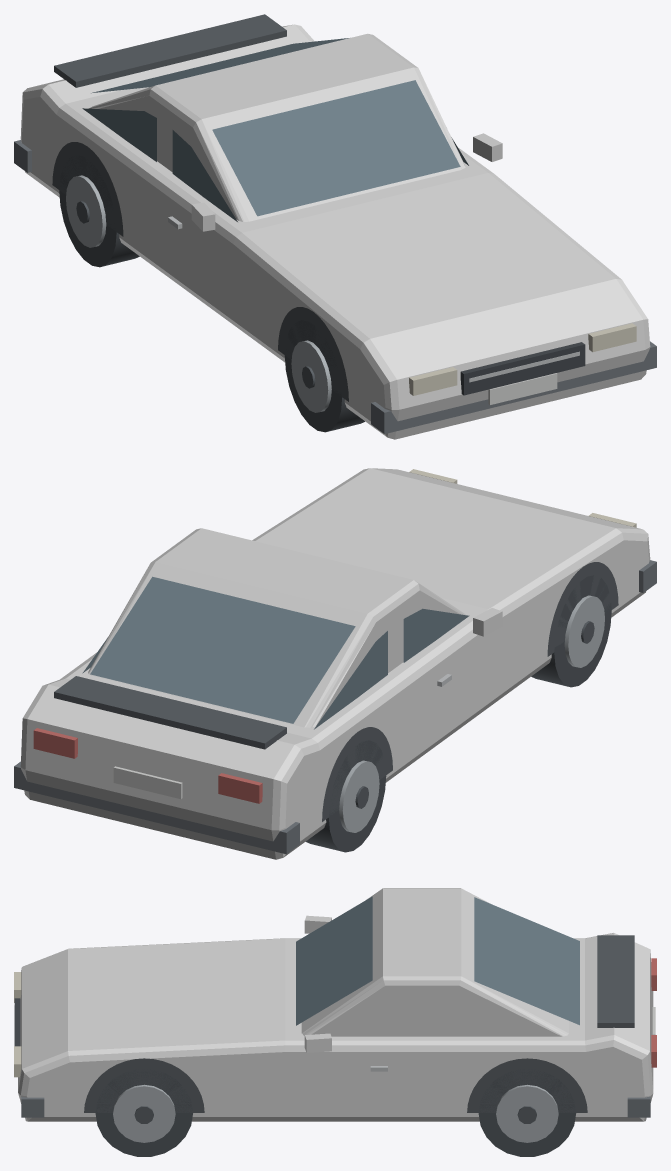
The model's file is coupe.glb.
3 renders of one model, top to bottom at view 1: azimuth 30°, elevation 25°; view 2: azimuth 150°, elevation 25°; view 3: azimuth 270°, elevation 25°, orthographic. The views are drawn at different scales.
Parts seen in each view (by area): view 1: coupe; view 2: coupe; view 3: coupe.
Boxes of the visible parts, left/top/right/bottom form: coupe: left=14, top=14, right=656, bottom=439; coupe: left=14, top=468, right=656, bottom=859; coupe: left=14, top=888, right=656, bottom=1156.
Size of the model in its own units: 2.05 by 1.3 by 4.47.
